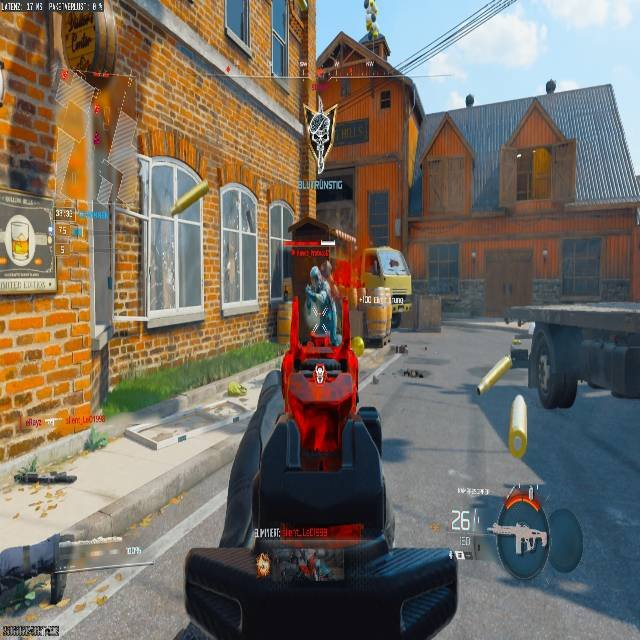head: (309, 266, 320, 285)
player: (304, 264, 333, 335), (308, 262, 329, 304)
